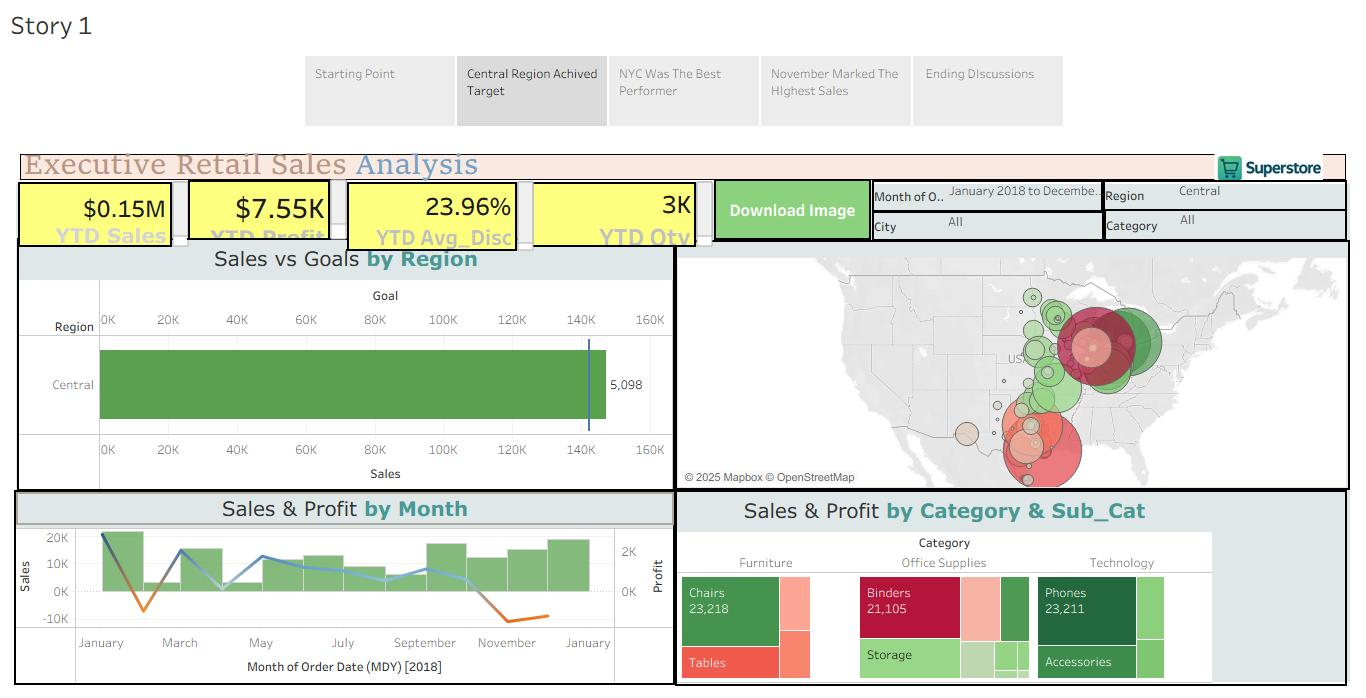

What the dashboard file says about the page in this screenshot:
{"tool":"tableau","page":{"name":"Dashboard 1","canvas":[1000,1000],"units":"permille","ordinal":0},"visuals":[{"type":"title","box":[6.9,14.2,986.1,62.1]},{"type":"image","param":"Image/Superstore-image 2.png","box":[897.9,16,92.9,60.5]},{"type":"worksheet","title":"Profit","mark":"Automatic","box":[133.3,40.9,117.8,147.7]},{"type":"worksheet","title":"Sales","mark":"Automatic","box":[6.9,44.5,127.3,147.7]},{"type":"worksheet","title":"Discount","mark":"Automatic","box":[251.1,44.5,139.4,154.8]},{"type":"worksheet","title":"Quantity","mark":"Automatic","box":[383.6,44.5,138.5,147.7]},{"type":"dashboard-object","box":[522.9,67.6,116,112.1]},{"type":"filter","title":"Time_Series","param":"[federated.0n1yw590q4qt2f17w6wlu1ym4l22].[tmn:Order Date (MDY):qk]","box":[639.8,69.4,171.4,58.7]},{"type":"filter","title":"Target_vs_Acheved","param":"[federated.0n1yw590q4qt2f17w6wlu1ym4l22].[none:Region:nk]","box":[811.3,69.4,181,56.9]},{"type":"filter","title":"Tree_Map","param":"[federated.0n1yw590q4qt2f17w6wlu1ym4l22].[none:Category:nk]","box":[812.1,122.8,180.1,58.7]},{"type":"filter","title":"City_Wise","param":"[federated.0n1yw590q4qt2f17w6wlu1ym4l22].[none:City:nk]","box":[639.8,126.3,172.3,55.2]},{"type":"worksheet","title":"Target_vs_Acheved","mark":"Automatic","rows":["Region"],"cols":["Sales","Goal"],"box":[5.2,179.7,489.2,457.3]},{"type":"worksheet","title":"City_Wise","mark":"Automatic","box":[494.4,179.7,499.6,455.5]},{"type":"worksheet","title":"Time_Series","mark":"Automatic","rows":["Sales","Profit"],"cols":["Order Date (MDY)"],"box":[4.3,635.2,490,355.9]},{"type":"worksheet","title":"Tree_Map","mark":"Automatic","cols":["Category"],"box":[494.4,635.2,497.8,357.7]}]}

Visuals, with their boxes on the dashboard's canvas, which has no fixed pixel size, in thousandths of its width and height (x1, y1, x2, y2). These are canvas units, not pixel positions in the 1366x698 screenshot, which may show the page scaled, cropped or inside an application window:
title: [x1=7, y1=14, x2=993, y2=76]
image: [x1=898, y1=16, x2=991, y2=76]
"Profit" worksheet: [x1=133, y1=41, x2=251, y2=189]
"Sales" worksheet: [x1=7, y1=44, x2=134, y2=192]
"Discount" worksheet: [x1=251, y1=44, x2=390, y2=199]
"Quantity" worksheet: [x1=384, y1=44, x2=522, y2=192]
dashboard-object: [x1=523, y1=68, x2=639, y2=180]
"Time_Series" filter: [x1=640, y1=69, x2=811, y2=128]
"Target_vs_Acheved" filter: [x1=811, y1=69, x2=992, y2=126]
"Tree_Map" filter: [x1=812, y1=123, x2=992, y2=182]
"City_Wise" filter: [x1=640, y1=126, x2=812, y2=182]
"Target_vs_Acheved" worksheet: [x1=5, y1=180, x2=494, y2=637]
"City_Wise" worksheet: [x1=494, y1=180, x2=994, y2=635]
"Time_Series" worksheet: [x1=4, y1=635, x2=494, y2=991]
"Tree_Map" worksheet: [x1=494, y1=635, x2=992, y2=993]
